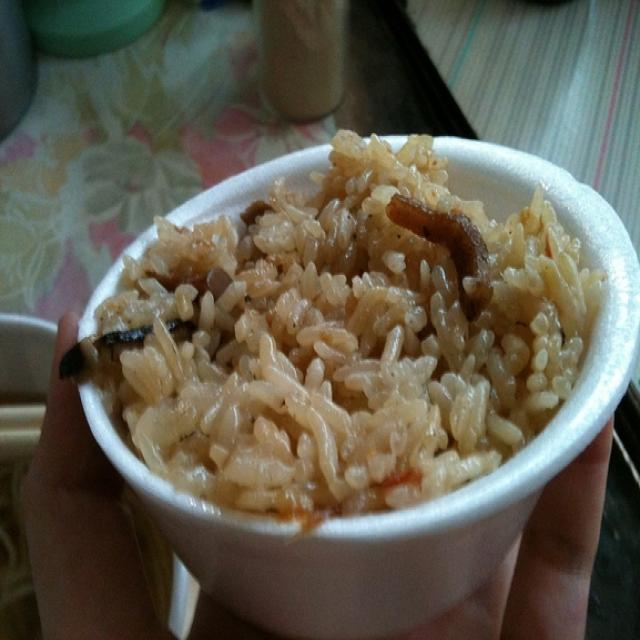米饭主食: (60, 64, 629, 552)
